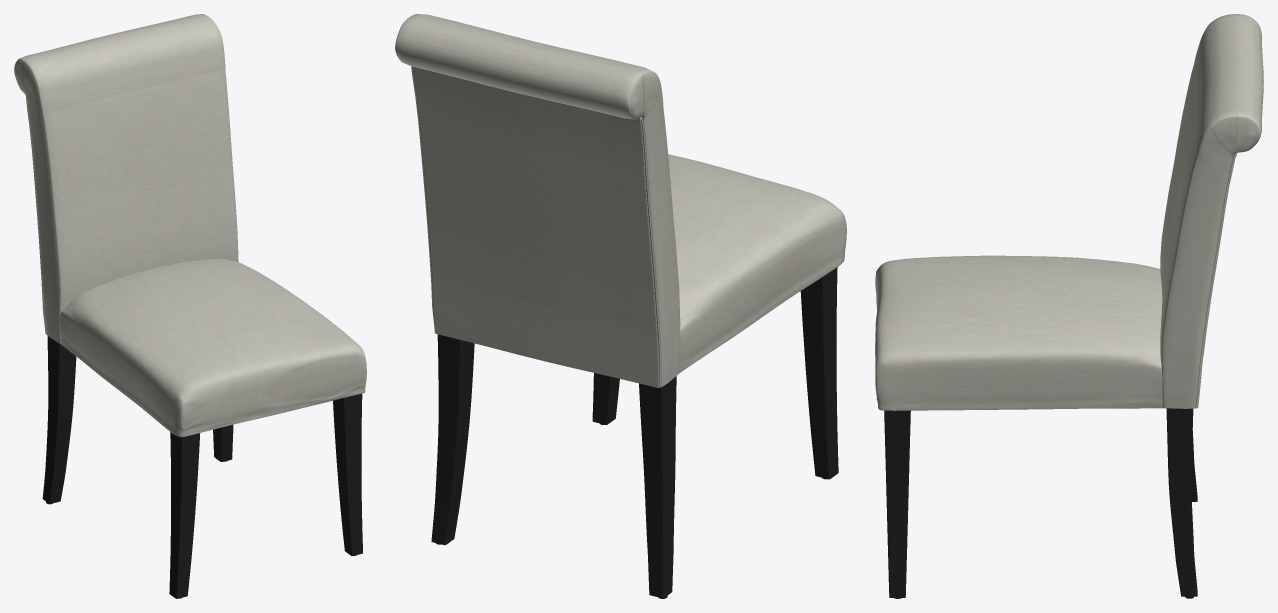
Rendered from abo-B07MBFDQLY.glb.
3 views of the same model, side by side, from view 1: azimuth 30°, elevation 25°; view 2: azimuth 150°, elevation 25°; view 3: azimuth 270°, elevation 25° (orthographic). The views are drawn at different scales.
Bounding box in the file's own units: 0.452 × 0.976 × 0.708.
1 material, 1 textured.
